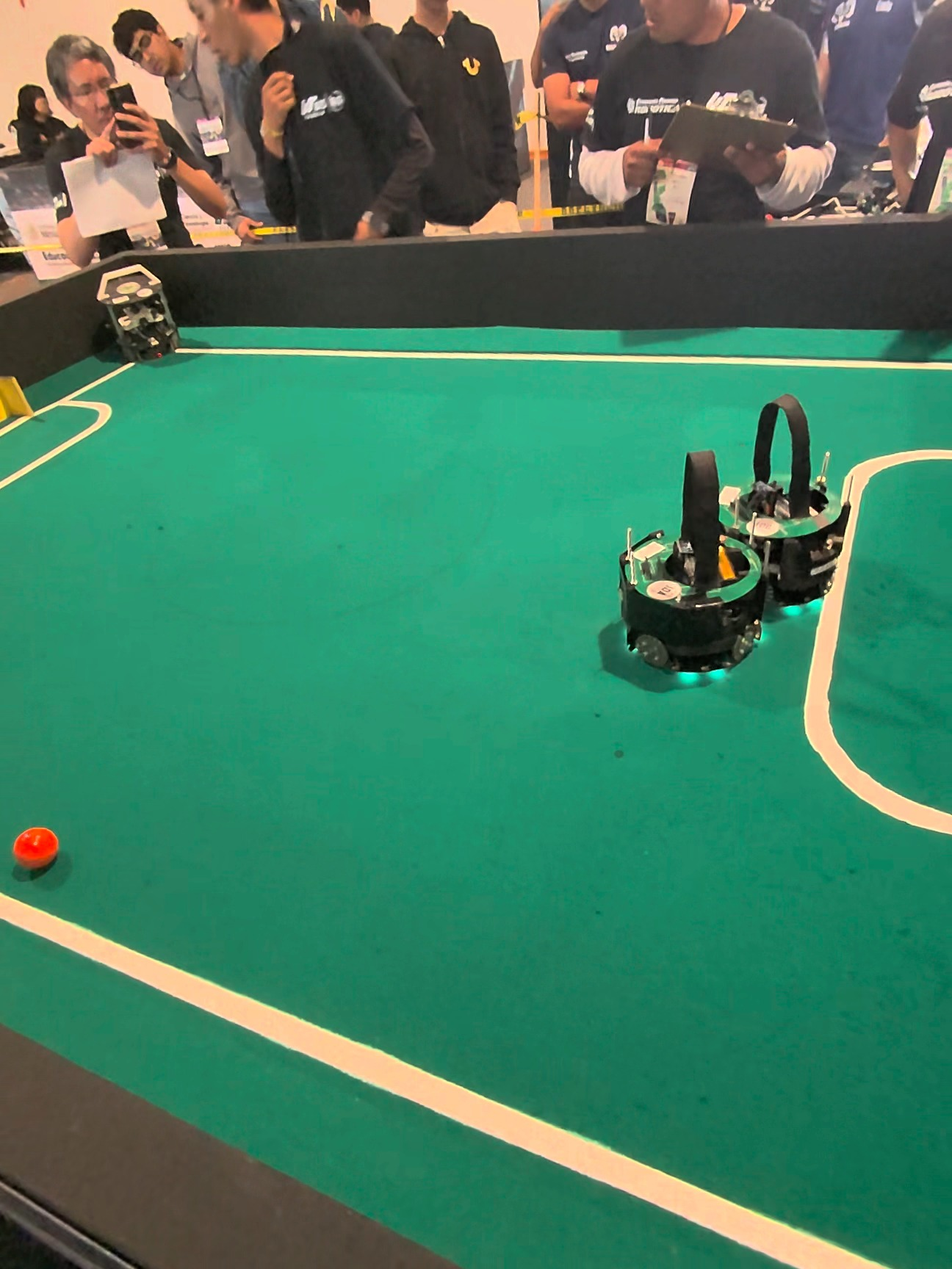Robot: (610, 437, 773, 699), (768, 392, 862, 622), (88, 246, 181, 368)
pelota: (18, 825, 61, 878)
